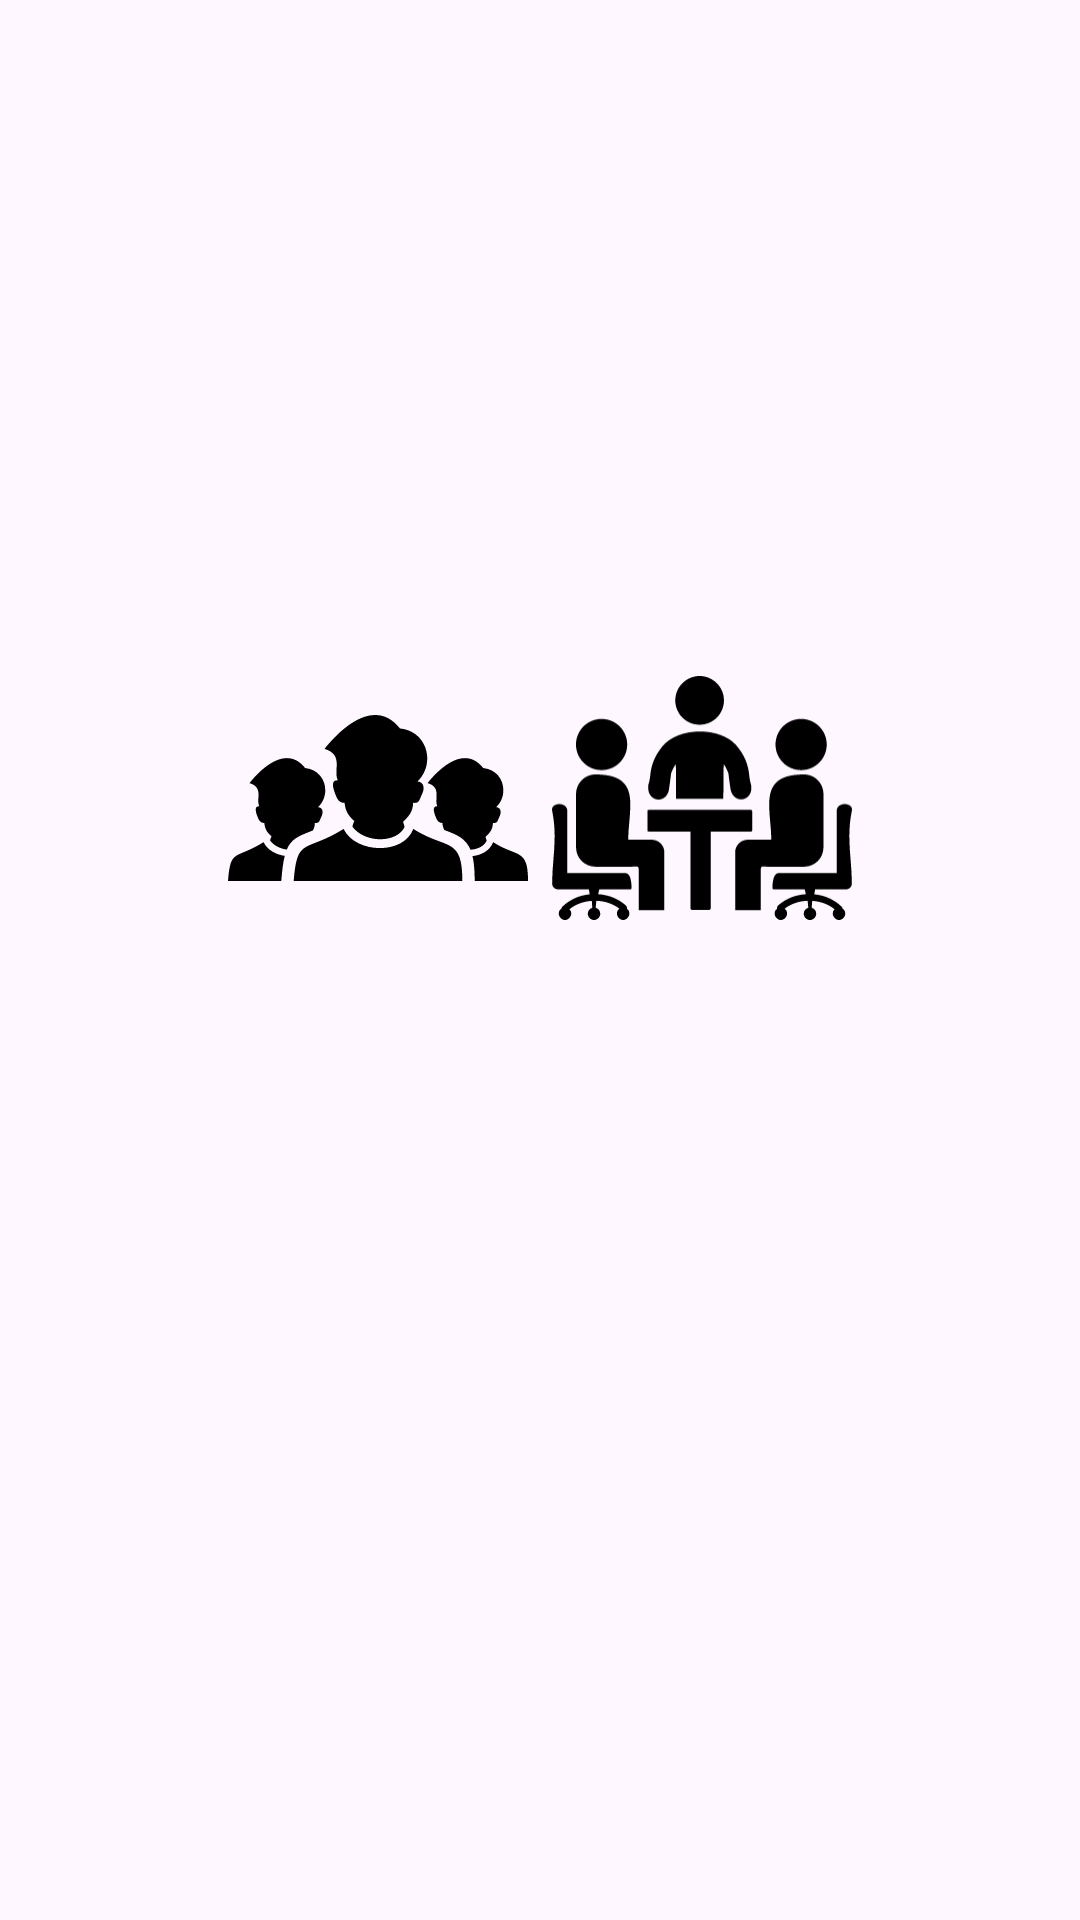

Icons on this 1080w x 1920h Android screen, each with its box as {"left": x1, "top": y1, "right": x2, "bottom": y2}:
meeting: {"left": 552, "top": 676, "right": 852, "bottom": 920}
people: {"left": 228, "top": 715, "right": 528, "bottom": 881}
